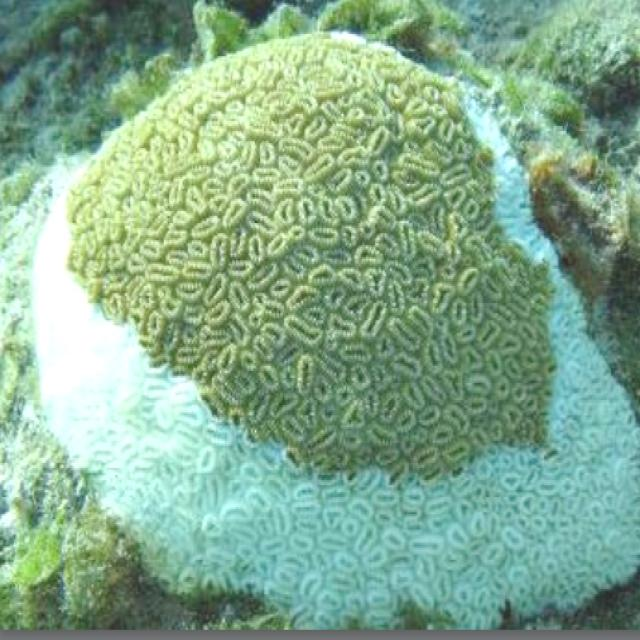Coral: (32, 32, 640, 632)
